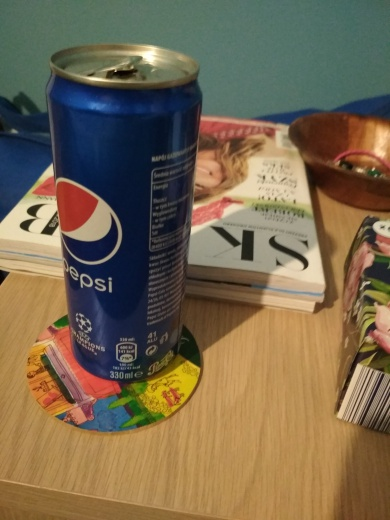pepsi: (42, 32, 204, 387)
